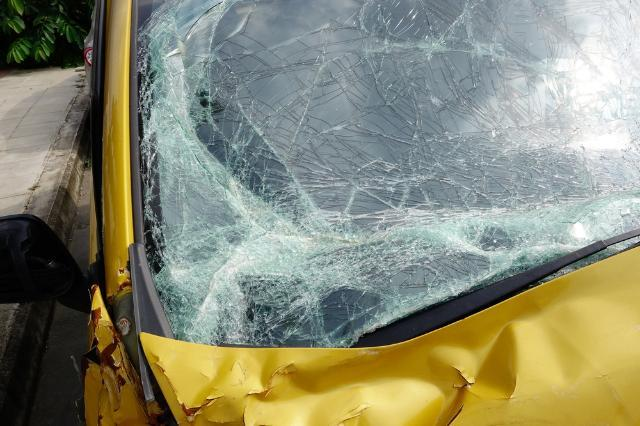dent: (141, 279, 638, 426)
glass shatter: (137, 0, 640, 350)
